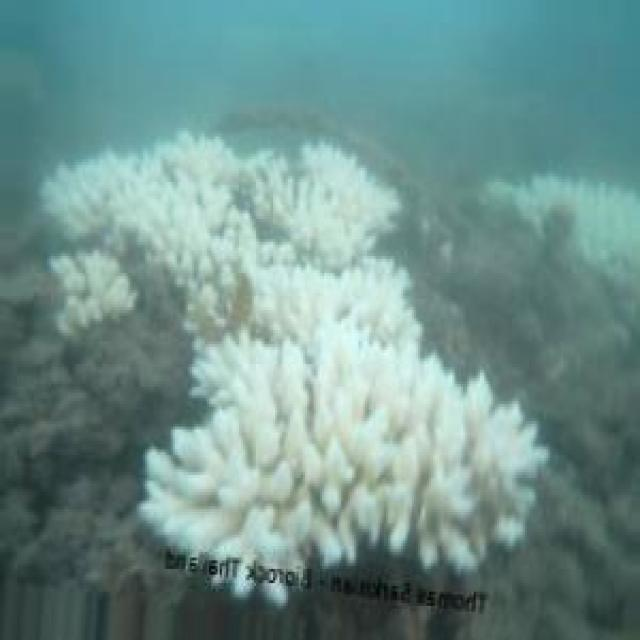bleached coral: (140, 257, 545, 569), (45, 135, 244, 278), (236, 142, 399, 271), (480, 175, 640, 284), (145, 430, 247, 552), (506, 182, 640, 273), (282, 148, 375, 262), (331, 324, 450, 398), (442, 404, 501, 546), (294, 410, 401, 486), (207, 299, 318, 367), (45, 156, 143, 228), (53, 250, 136, 334), (62, 253, 137, 338), (166, 145, 241, 228)
